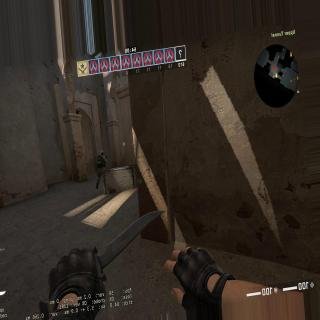CT-Body: (95, 148, 108, 189)
CT-Head: (100, 150, 104, 156)
